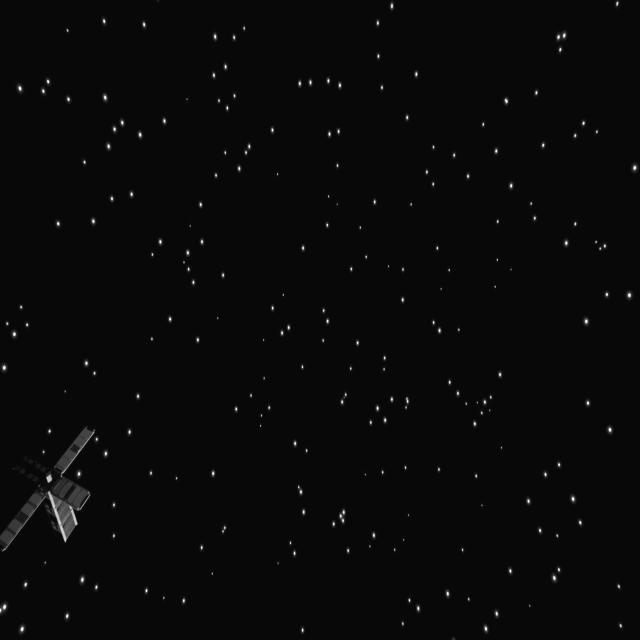medium_debris: (0, 421, 105, 565)
